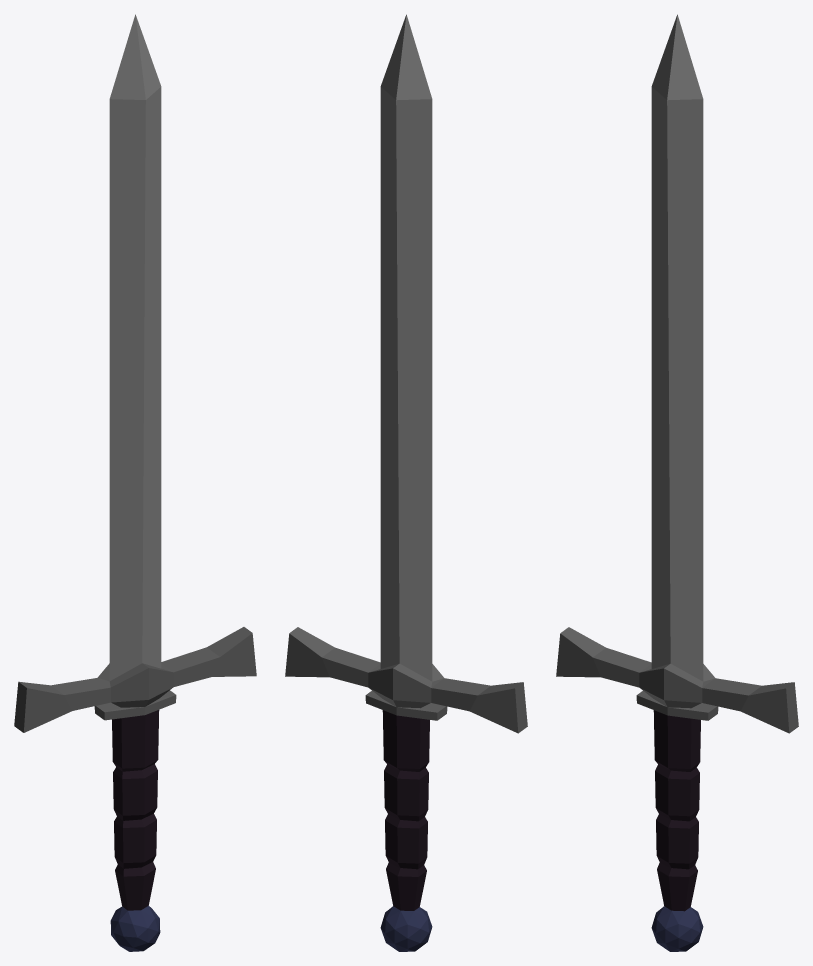
The model's file is longsword.glb.
3 renders of one model, left to right at view 1: azimuth 30°, elevation 25°; view 2: azimuth 150°, elevation 25°; view 3: azimuth 330°, elevation 25°, orthographic.
Visible parts, largest first — view 1: sword; view 2: sword; view 3: sword.
Boxes of the visible parts, x1,y1,x2,y2 form: sword: (14, 14, 256, 951); sword: (285, 14, 527, 951); sword: (556, 14, 798, 951).
Bounding box in the file's own units: 0.4942 × 1.9 × 0.0987.
1 material, 1 textured.
